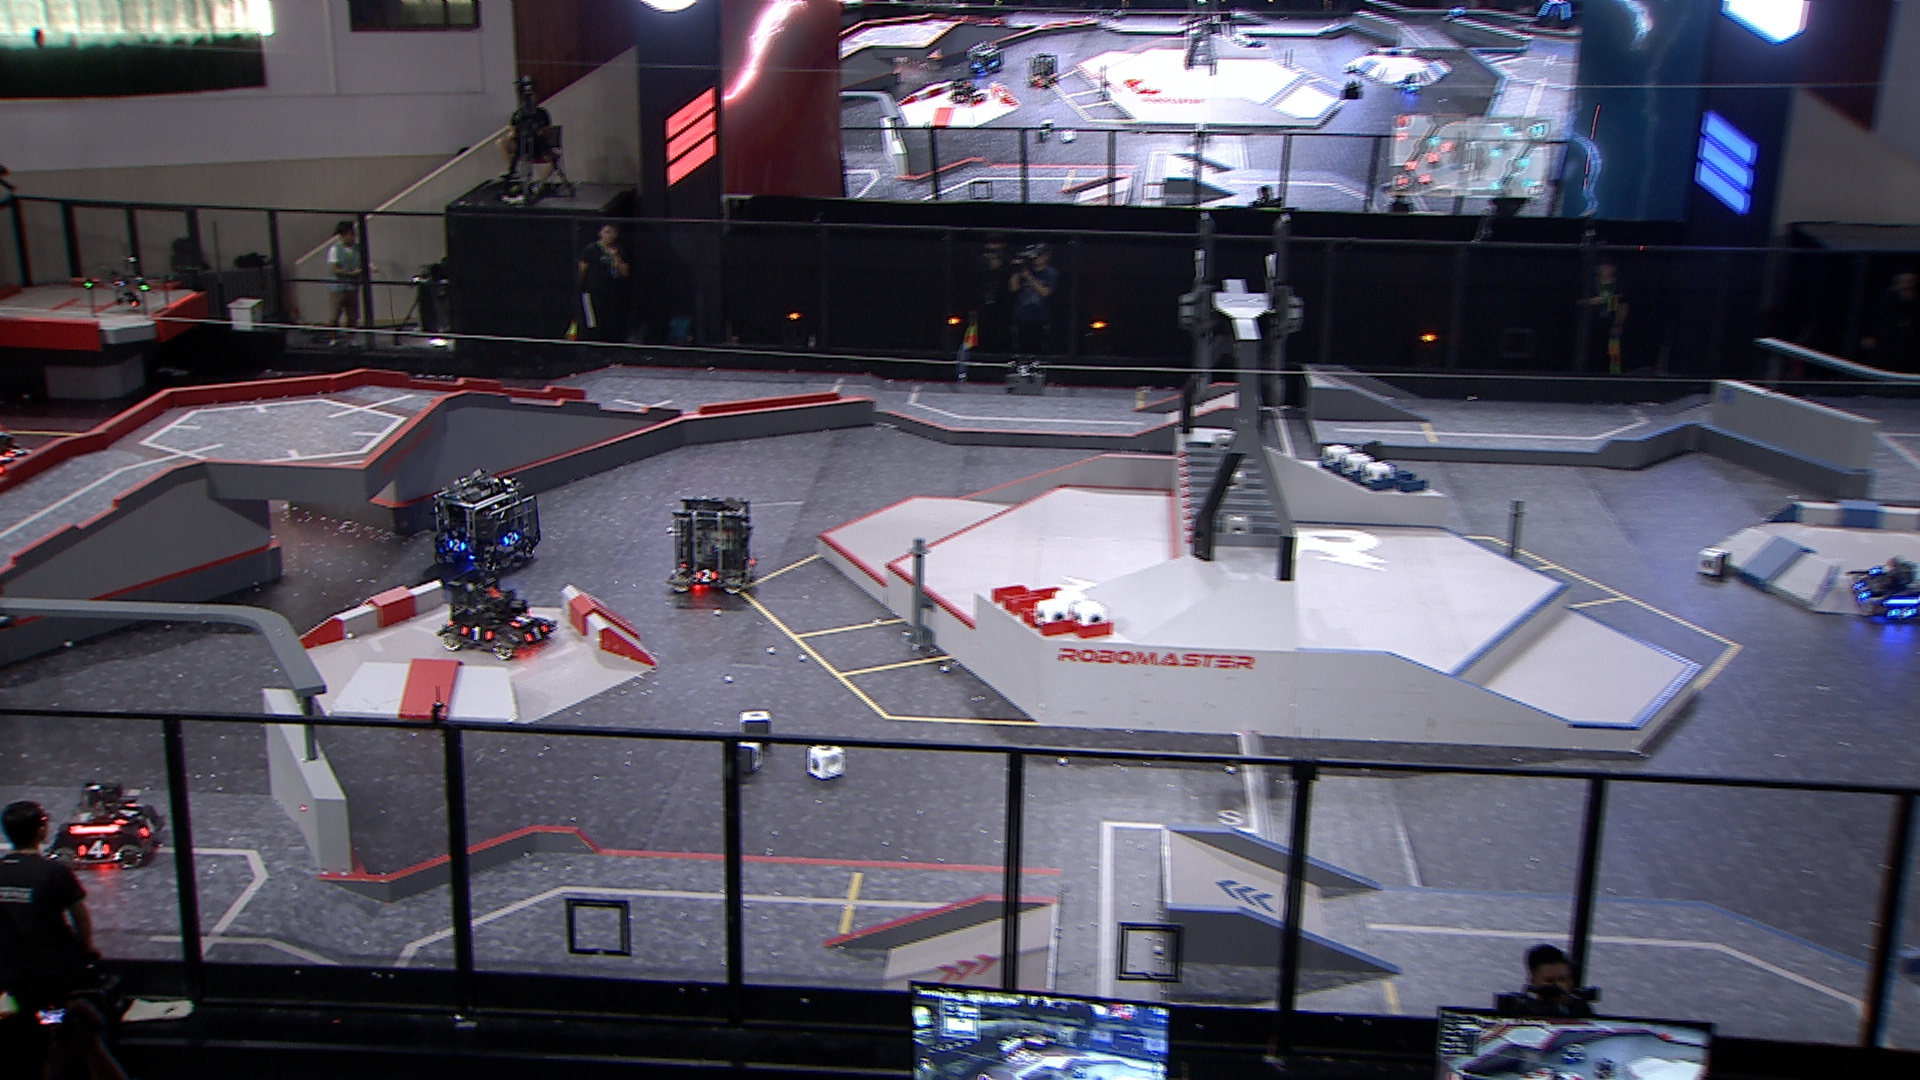armor: (460, 624, 493, 644), (78, 840, 109, 858), (115, 796, 136, 823), (1884, 604, 1920, 618), (526, 622, 549, 644), (138, 815, 158, 835), (694, 568, 717, 584), (510, 611, 533, 626), (5, 444, 24, 462), (1851, 582, 1869, 599), (448, 538, 465, 553), (506, 527, 520, 542)
car: (430, 469, 543, 576), (45, 782, 169, 868), (433, 580, 556, 662), (662, 493, 756, 597), (1847, 551, 1920, 629)
ignore: (1025, 53, 1064, 92), (967, 40, 1006, 78), (945, 74, 982, 109), (1433, 5, 1472, 33), (1557, 1039, 1590, 1067), (1592, 1054, 1625, 1079), (1396, 69, 1423, 98)
